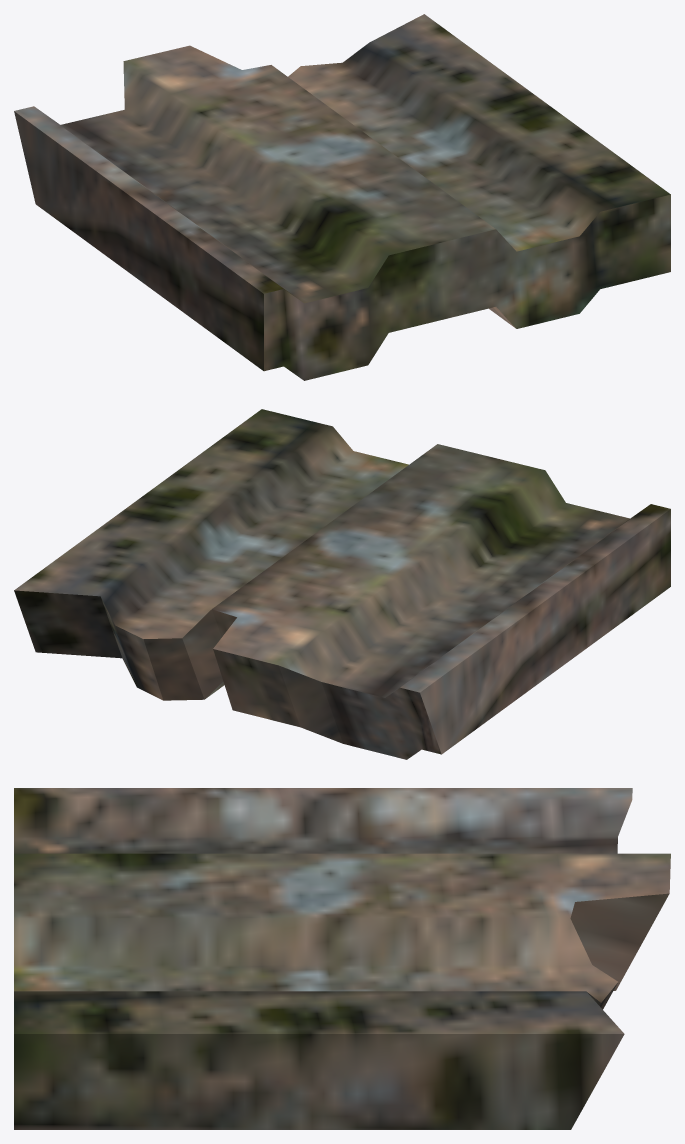
File: SM_OldCeramicRoofTiles_01_16_tile.fbx
3 renders of one model, top to bottom at view 1: azimuth 30°, elevation 25°; view 2: azimuth 150°, elevation 25°; view 3: azimuth 270°, elevation 25°, orthographic. The views are drawn at different scales.
Visible parts, largest first — view 1: sm_OldCeramicRoofTiles_01_16_tile_LOD0; view 2: sm_OldCeramicRoofTiles_01_16_tile_LOD0; view 3: sm_OldCeramicRoofTiles_01_16_tile_LOD0.
Boxes of the visible parts, box(x1,y1,x2,y2) form: sm_OldCeramicRoofTiles_01_16_tile_LOD0: box(14, 14, 670, 380); sm_OldCeramicRoofTiles_01_16_tile_LOD0: box(14, 409, 670, 759); sm_OldCeramicRoofTiles_01_16_tile_LOD0: box(14, 788, 670, 1129).
Size of the model in its own units: 39.92 by 35.37 by 8.71.
